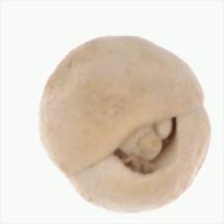L3: (111, 113, 182, 174)
L4: (38, 35, 212, 212)
